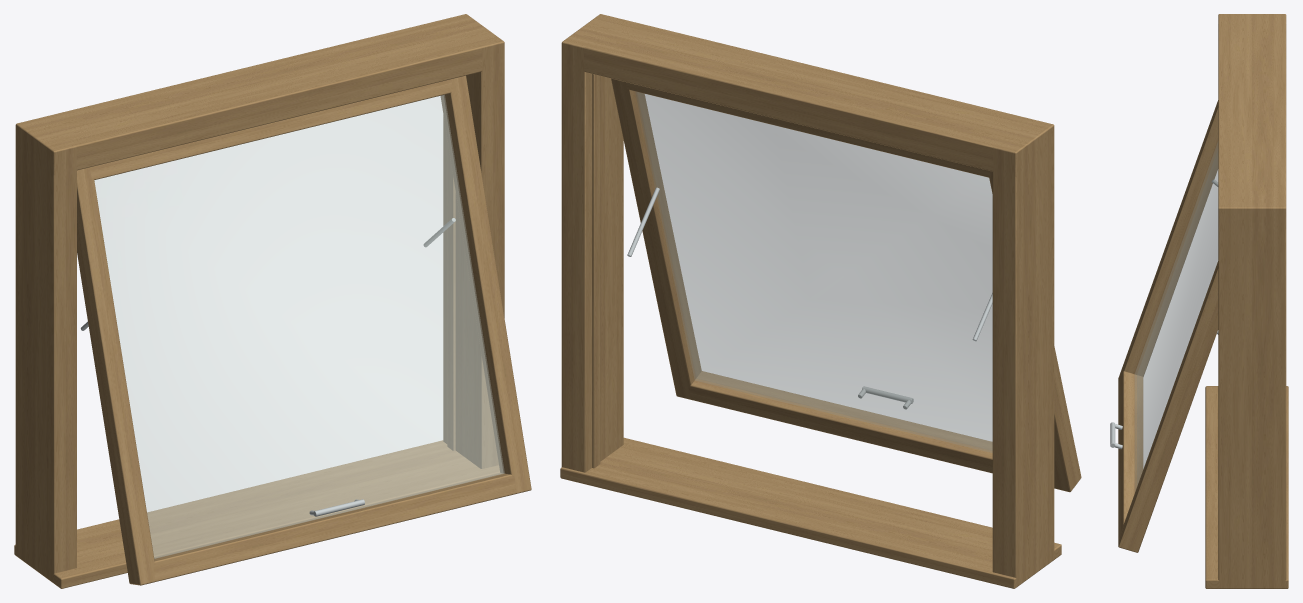
Rendered from awning-window.glb.
3 renders of one model, left to right at view 1: azimuth 30°, elevation 25°; view 2: azimuth 150°, elevation 25°; view 3: azimuth 270°, elevation 25°, orthographic. The views are drawn at different scales.
Visible parts, largest first — view 1: Sash | glass pane, Frame | header, Frame | jamb, Frame | sill, Frame | jamb.001, Sash | stile.001, Sash | stile, Sash | crossrail, Sash | crossrail.001, Frame | door stop.001; view 2: Sash | glass pane, Frame | header, Frame | jamb, Frame | sill, Frame | jamb.001, Sash | crossrail, Sash | stile.001, Frame | door stop.001, Sash | crossrail.001, Sash | stile; view 3: Frame | jamb.001, Frame | header, Sash | glass pane, Sash | stile.001, Sash | stile, Frame | sill, Sash | crossrail.
Part boxes in pixels (box(x1,y1,x2,y2)): Sash | glass pane: box(94, 95, 504, 558); Frame | header: box(16, 14, 504, 174); Frame | jamb: box(15, 124, 76, 582); Frame | sill: box(14, 440, 499, 588); Frame | jamb.001: box(443, 40, 504, 468); Sash | stile.001: box(440, 75, 531, 493); Sash | stile: box(77, 167, 156, 585); Sash | crossrail: box(153, 473, 516, 581); Sash | crossrail.001: box(90, 79, 453, 179); Frame | door stop.001: box(447, 140, 455, 450); Sash | glass pane: box(635, 91, 992, 452); Frame | header: box(561, 14, 1053, 176); Frame | jamb: box(992, 119, 1054, 586); Frame | sill: box(560, 437, 1061, 588); Frame | jamb.001: box(561, 14, 623, 472); Sash | crossrail: box(688, 371, 1055, 488); Sash | stile.001: box(611, 78, 701, 399); Frame | door stop.001: box(592, 74, 600, 468); Sash | crossrail.001: box(625, 82, 990, 177); Sash | stile: box(989, 171, 1081, 492); Frame | jamb.001: box(1218, 198, 1286, 588); Frame | header: box(1218, 14, 1286, 228); Sash | glass pane: box(1135, 143, 1218, 491); Sash | stile.001: box(1118, 261, 1218, 552); Sash | stile: box(1118, 100, 1218, 383); Frame | sill: box(1205, 386, 1288, 588); Sash | crossrail: box(1118, 371, 1143, 539).
Size of the model in its own units: 1.06 by 0.97 by 0.4114.
4 materials, 4 textured.
